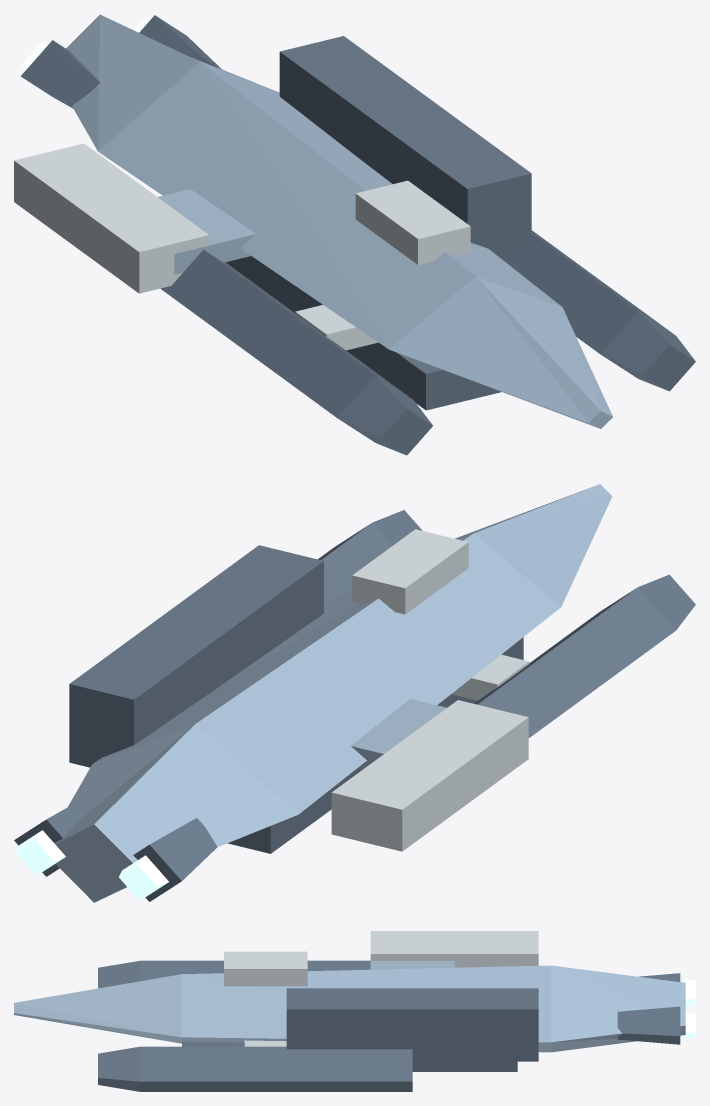
The picture shows the model from 3 angles, top to bottom: view 1: azimuth 30°, elevation 25°; view 2: azimuth 150°, elevation 25°; view 3: azimuth 270°, elevation 25°; orthographic projection. The views are drawn at different scales.
Size of the model in its own units: 2.82 by 1.06 by 6.82.
